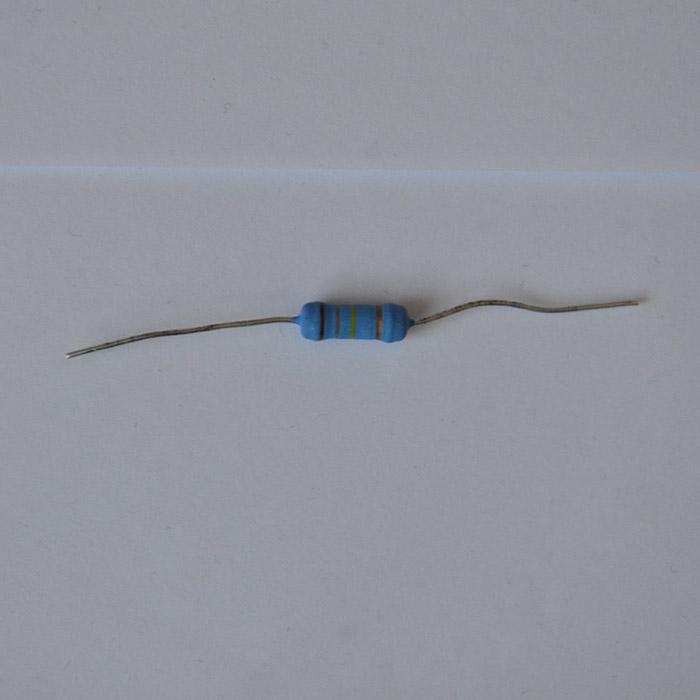resistor: (294, 300, 415, 343)
